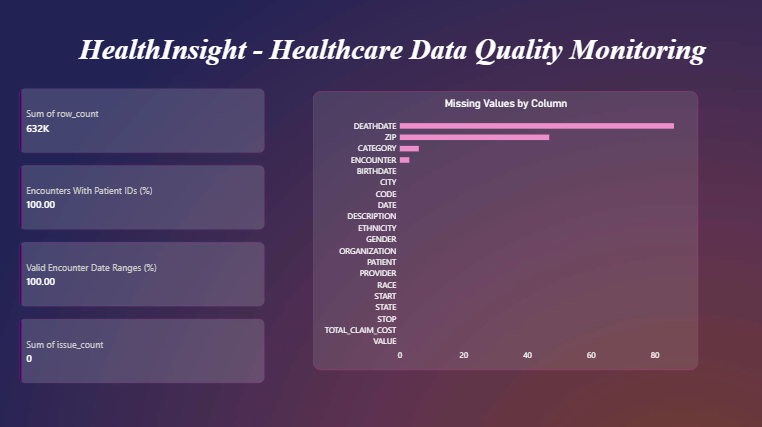

Layout of this report page (visuals, bound fields, positions):
{"tool":"powerbi","page":{"name":"Data Quality Dashboard","canvas":[1920,1080],"ordinal":1},"visuals":[{"type":"textbox","box":[87.5,87.5,1802.5,102.5],"z":0},{"type":"clusteredBarChart","title":"Missing Values by Column","fields":{"Category":["missing_values_report.column"],"Y":["Avg(missing_values_report.missing_pct)"]},"box":[790,232.5,962.5,697.5],"z":1000},{"type":"cardVisual","fields":{"Data":["Sum(dataset_summary.row_count)","05_query_5_encounter_data_quality.Encounters With Patient IDs (%)","05_query_5_encounter_data_quality.Valid Encounter Date Ranges (%)","Sum(quality_issues.issue_count)"]},"box":[45,215,635,760],"z":2000}]}

Visuals, with their boxes in screenshot pixels (x1, y1, x2, y2), scaled from the page's 1920x1080 canvas onto the 762x427 screenshot:
textbox: x1=35 y1=35 x2=750 y2=75
"Missing Values by Column" clusteredBarChart: x1=314 y1=92 x2=696 y2=368
cardVisual - Sum(dataset_summary.row_count) x 05_query_5_encounter_data_quality.Encounters With Patient IDs (%): x1=18 y1=85 x2=270 y2=385
